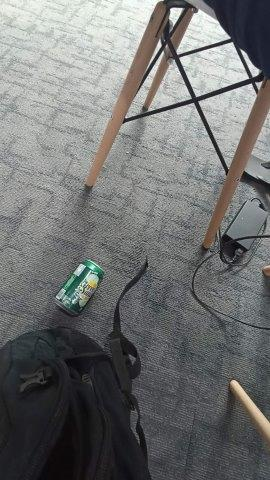kaleng: (54, 260, 104, 316)
